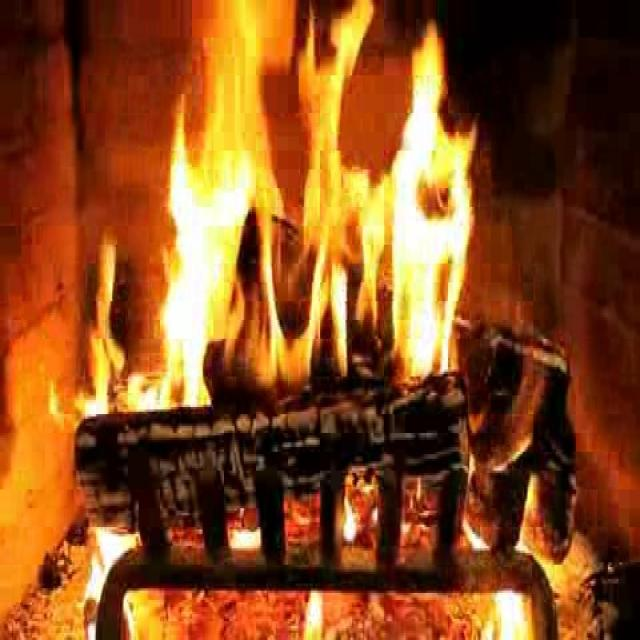fire: (156, 11, 462, 397)
